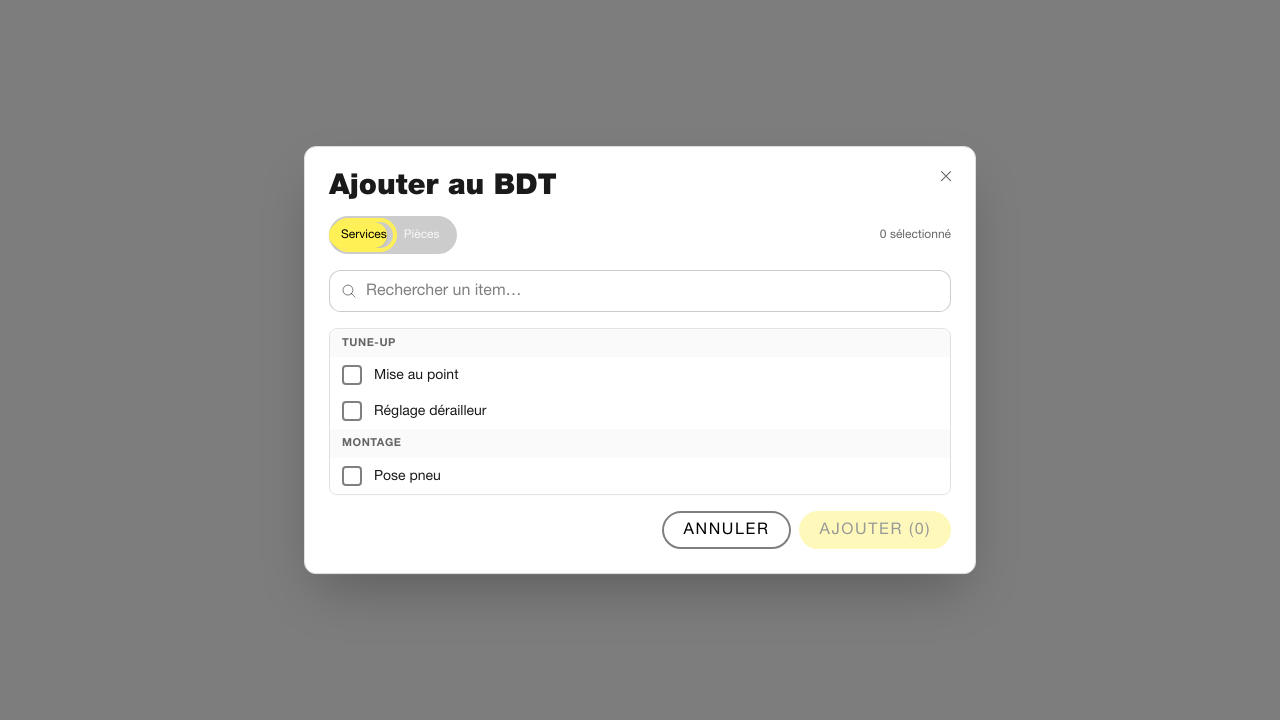
Test: AjoutItemsModal › checkbox item cochable → compteur 'sélectionné(s)' incrémente
The width and height of the screenshot is (1280, 720).
Expected: the text "0 sélectionné" is shown, [880,227,951,243]
Click the checkbox labelled "Mise au point". click: (352, 375)
box: [342,365,362,385]
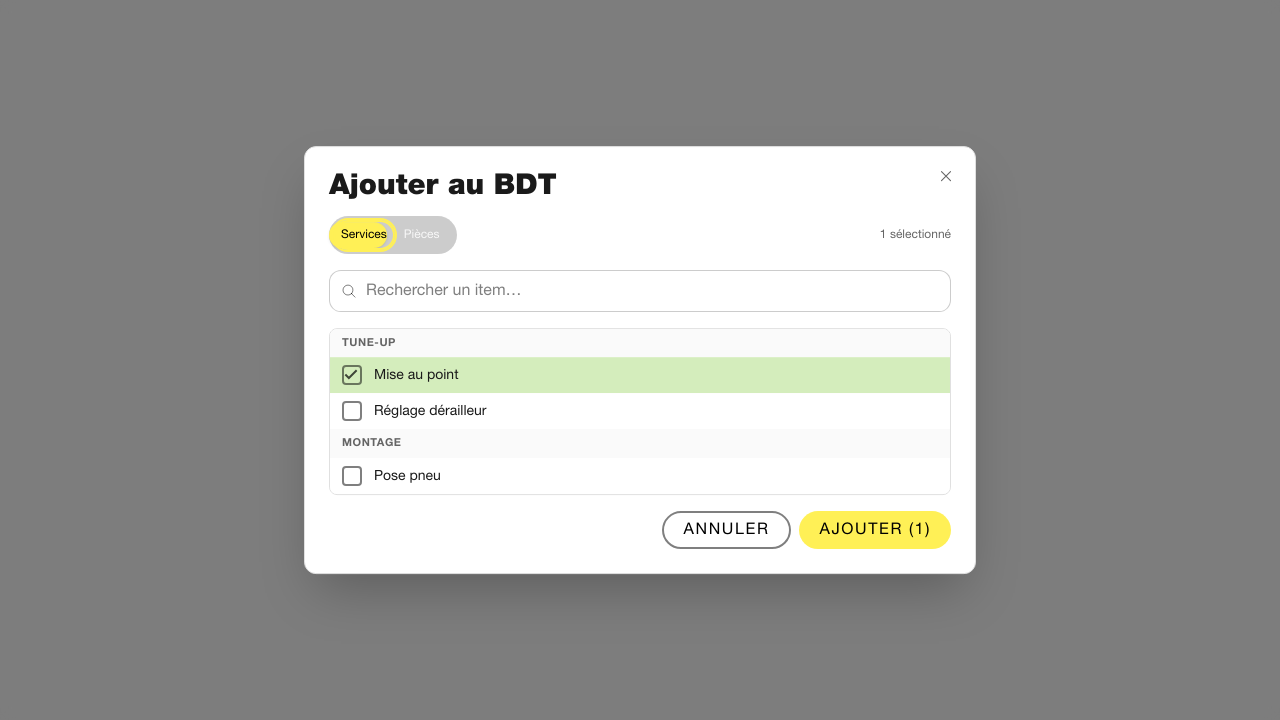
Now the text "1 sélectionné" is shown, box [880,227,951,243]
Click the checkbox labelled "Pose pneu". click: (352, 476)
box: [342,466,362,486]
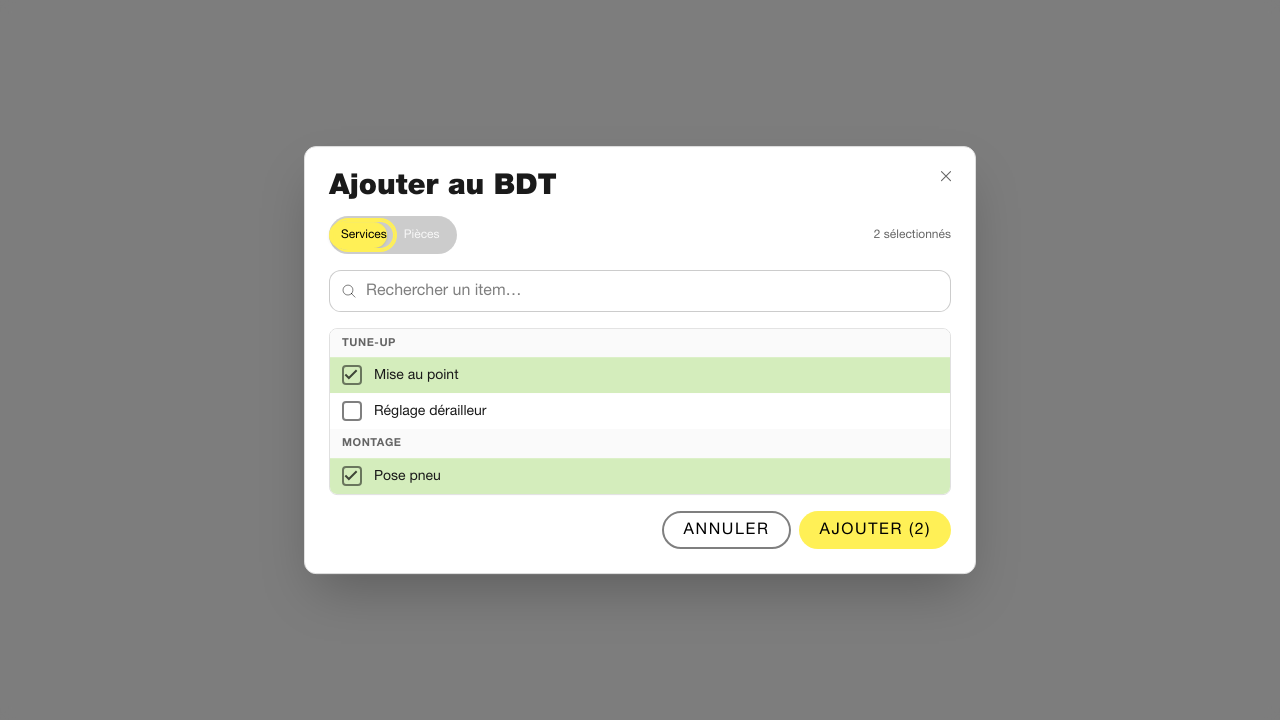
Now the text "2 sélectionnés" is shown, box [874,227,951,243]
